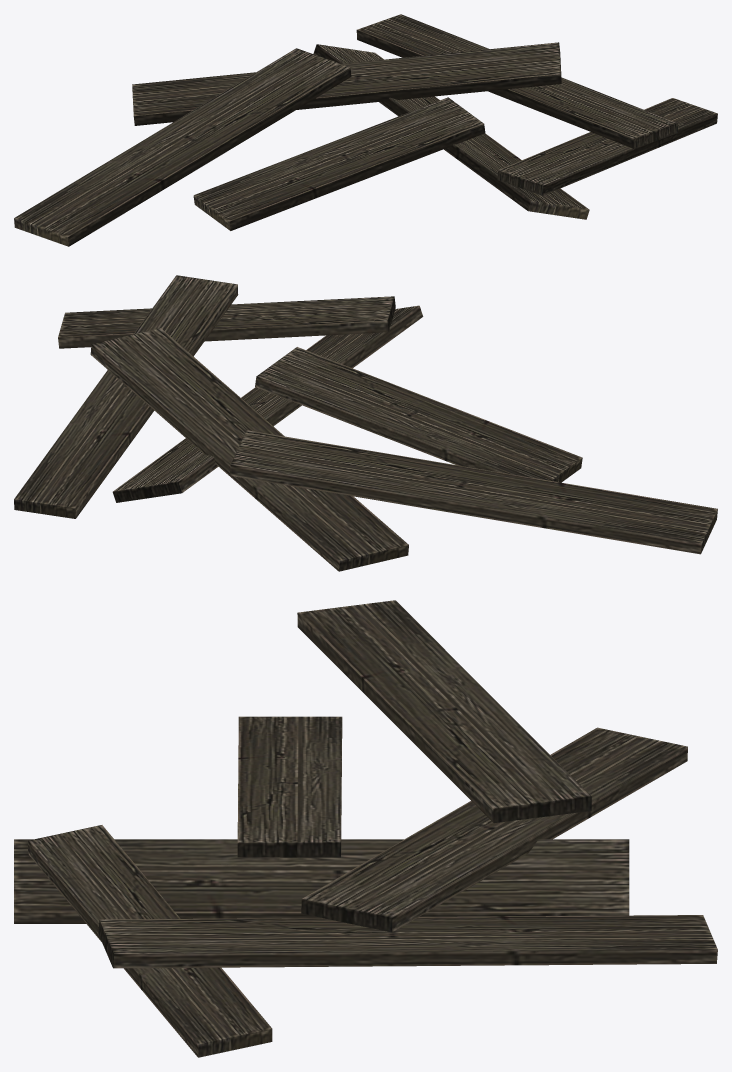
File: Wood06_Parts_LostTemple_001.FBX
3 views of the same model, one above another, from view 1: azimuth 30°, elevation 25°; view 2: azimuth 150°, elevation 25°; view 3: azimuth 270°, elevation 25° (orthographic). The views are drawn at different scales.
Parts seen in each view (by area): view 1: Wood06_Parts_LostTemple_001; view 2: Wood06_Parts_LostTemple_001; view 3: Wood06_Parts_LostTemple_001.
Boxes of the visible parts, <box> form: Wood06_Parts_LostTemple_001: <box>14,14,717,246</box>; Wood06_Parts_LostTemple_001: <box>14,275,717,571</box>; Wood06_Parts_LostTemple_001: <box>14,600,717,1057</box>.
Bounding box in the file's own units: 296 × 25.11 × 198.
1 material, 1 textured.
